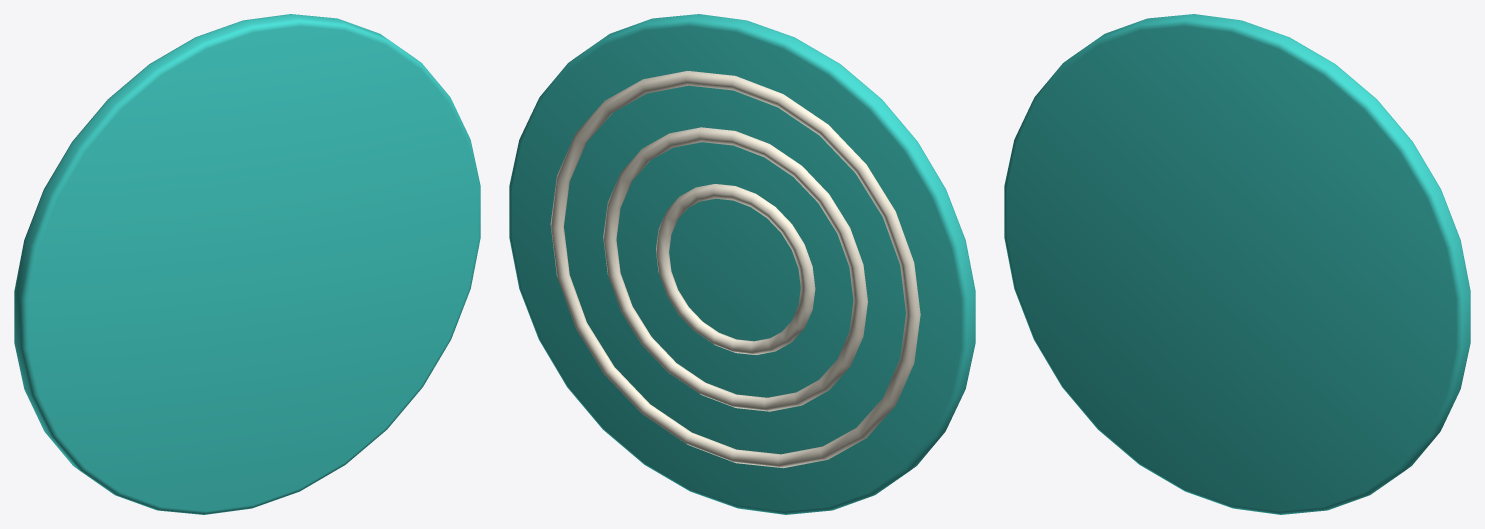
The model's file is GardenBirdBathWater_Premium.fbx.
3 views of the same model, side by side, from view 1: azimuth 30°, elevation 25°; view 2: azimuth 150°, elevation 25°; view 3: azimuth 330°, elevation 25° (orthographic).
Visible parts, largest first — view 1: GardenBirdBathWater; view 2: GardenBirdBathWater; view 3: GardenBirdBathWater.
Part boxes in pixels (x1=…): GardenBirdBathWater: x1=14, y1=14, x2=480, y2=514; GardenBirdBathWater: x1=509, y1=14, x2=975, y2=514; GardenBirdBathWater: x1=1004, y1=14, x2=1470, y2=514.
Bounding box in the file's own units: 0.541 × 0.544 × 0.0336.
